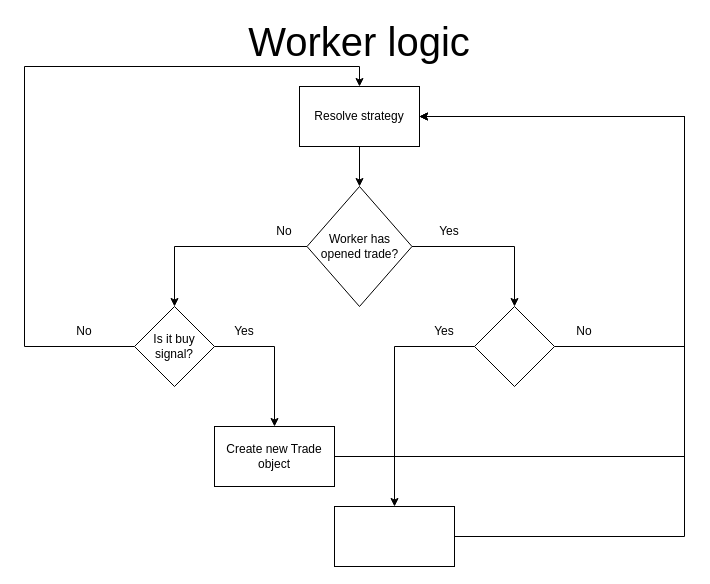
Some shapes in this 710 by 584 pixel diagram are drawn without their labels. Here are the shapes that lost their labels. From the top down, the box of each, then its label:
(474, 306, 554, 386): is it sell signal?
(334, 506, 454, 566): Close Trade object
